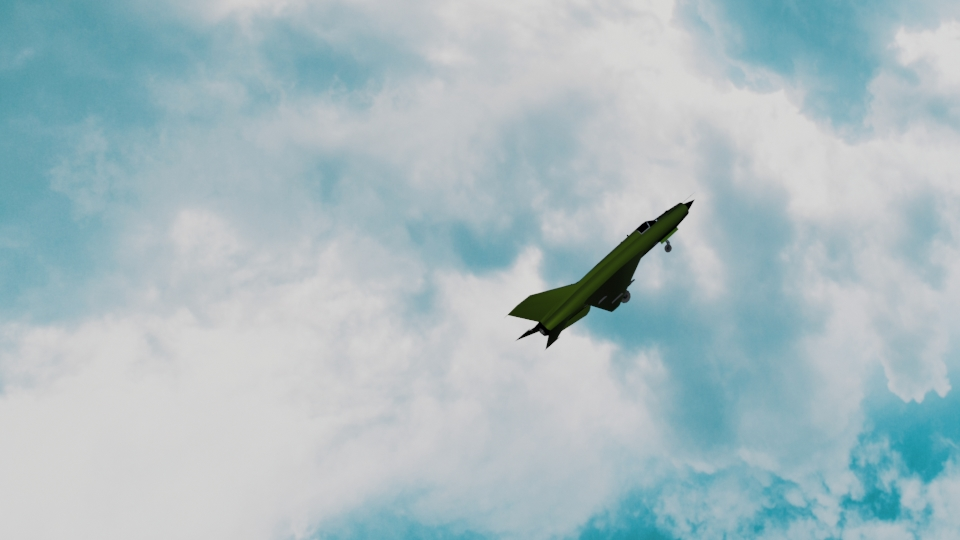plane: (506, 197, 693, 348)
